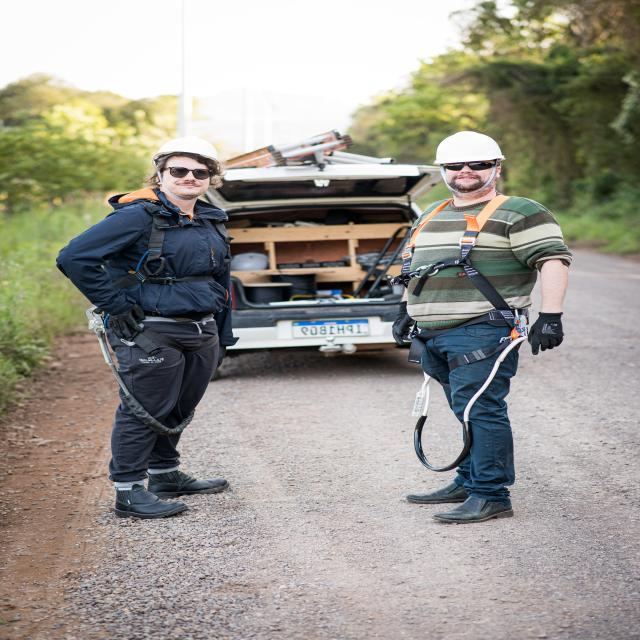botas: (430, 489, 518, 529), (106, 482, 188, 522), (142, 467, 234, 498), (401, 476, 479, 510)
capacete: (429, 129, 511, 165), (149, 133, 221, 166)
corda de vida: (401, 189, 536, 374), (104, 200, 238, 366)
luva: (97, 294, 154, 343), (525, 308, 573, 357), (388, 298, 424, 348)
